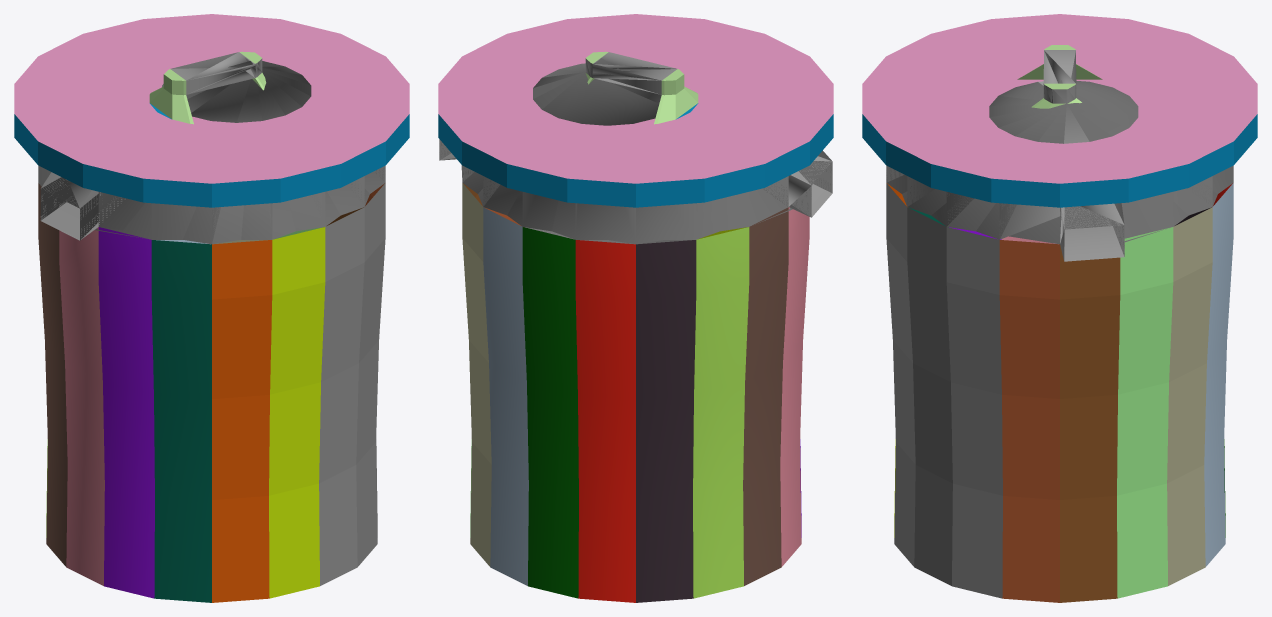
The model's file is Trashbin.FBX.
The picture shows the model from 3 angles, left to right: view 1: azimuth 30°, elevation 25°; view 2: azimuth 150°, elevation 25°; view 3: azimuth 270°, elevation 25°; orthographic projection.
Visible parts, largest first — view 1: Cylinder01; view 2: Cylinder01; view 3: Cylinder01.
Boxes of the visible parts, x1=… form: Cylinder01: x1=14, y1=14, x2=409, y2=602; Cylinder01: x1=438, y1=14, x2=833, y2=602; Cylinder01: x1=862, y1=14, x2=1257, y2=602.
Bounding box in the file's own units: 267 × 341 × 263.
